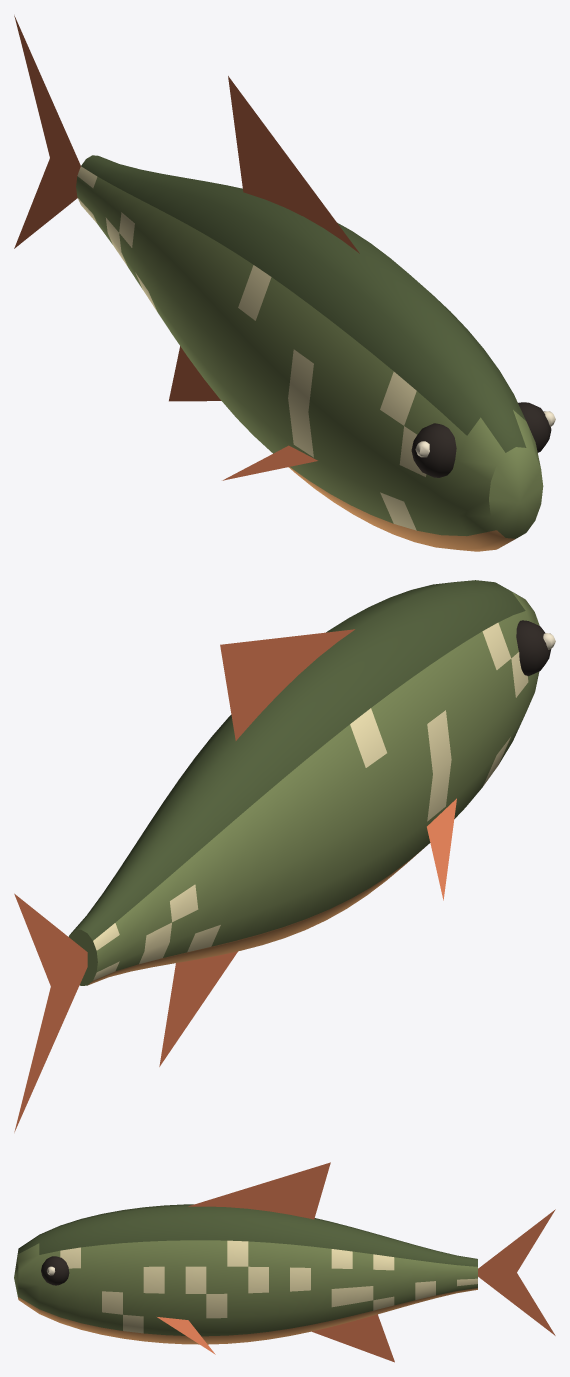
File: brook_trout.fbx
3 renders of one model, top to bottom at view 1: azimuth 30°, elevation 25°; view 2: azimuth 150°, elevation 25°; view 3: azimuth 270°, elevation 25°, orthographic. The views are drawn at different scales.
Parts seen in each view (by area): view 1: Fish_brook_trout_EXP; view 2: Fish_brook_trout_EXP; view 3: Fish_brook_trout_EXP.
Part boxes in pixels (left/top/right/bottom): Fish_brook_trout_EXP: left=14, top=15, right=555, bottom=551; Fish_brook_trout_EXP: left=14, top=580, right=555, bottom=1132; Fish_brook_trout_EXP: left=14, top=1162, right=555, bottom=1362.
Bounding box in the file's own units: 0.1408 × 0.2212 × 0.5427.
